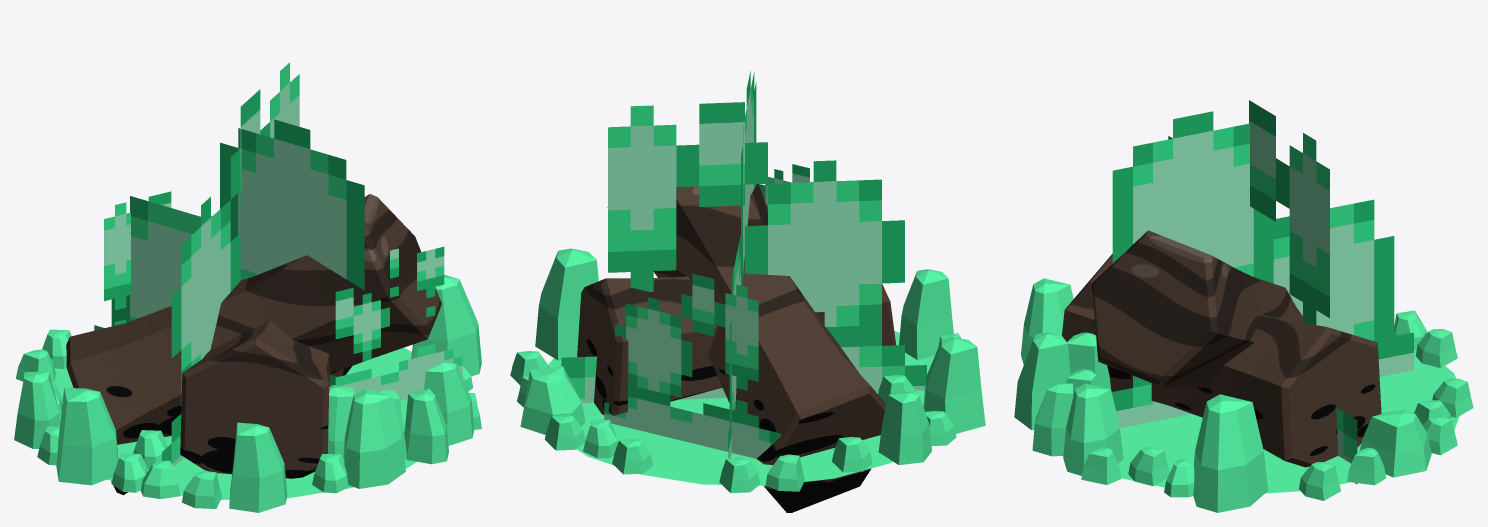
The model's file is Campfire6.fbx.
The picture shows the model from 3 angles, left to right: view 1: azimuth 30°, elevation 25°; view 2: azimuth 150°, elevation 25°; view 3: azimuth 270°, elevation 25°; orthographic projection. The views are drawn at different scales.
Parts seen in each view (by area): view 1: logs6, rocks6, cf_flamesy_b2, cf_flamesy_b1, cf_flamesy_a2, stone_circle6, cf_flamesy_a1; view 2: cf_flamesy_b1, logs6, rocks6, cf_flamesy_a1, stone_circle6, cf_flamesy_b2, cf_flamesy_a2; view 3: logs6, rocks6, cf_flamesy_b2, cf_flamesy_b1, stone_circle6.
Boxes of the visible parts, x1,y1,x2,y2 form: logs6: [66, 194, 441, 495]; rocks6: [14, 275, 481, 512]; cf_flamesy_b2: [94, 119, 364, 386]; cf_flamesy_b1: [162, 62, 299, 466]; cf_flamesy_a2: [329, 246, 462, 399]; stone_circle6: [54, 347, 416, 499]; cf_flamesy_a1: [104, 191, 211, 325]; cf_flamesy_b1: [561, 102, 926, 402]; logs6: [577, 184, 895, 512]; rocks6: [510, 248, 985, 493]; cf_flamesy_a1: [604, 273, 780, 458]; stone_circle6: [548, 331, 934, 485]; cf_flamesy_b2: [728, 71, 756, 458]; cf_flamesy_a2: [758, 164, 809, 207]; logs6: [1062, 230, 1381, 467]; rocks6: [1014, 278, 1473, 512]; cf_flamesy_b2: [1111, 111, 1413, 428]; cf_flamesy_b1: [1168, 100, 1357, 484]; stone_circle6: [1118, 350, 1459, 493].
Size of the model in its own units: 39.38 by 33.59 by 35.44.
